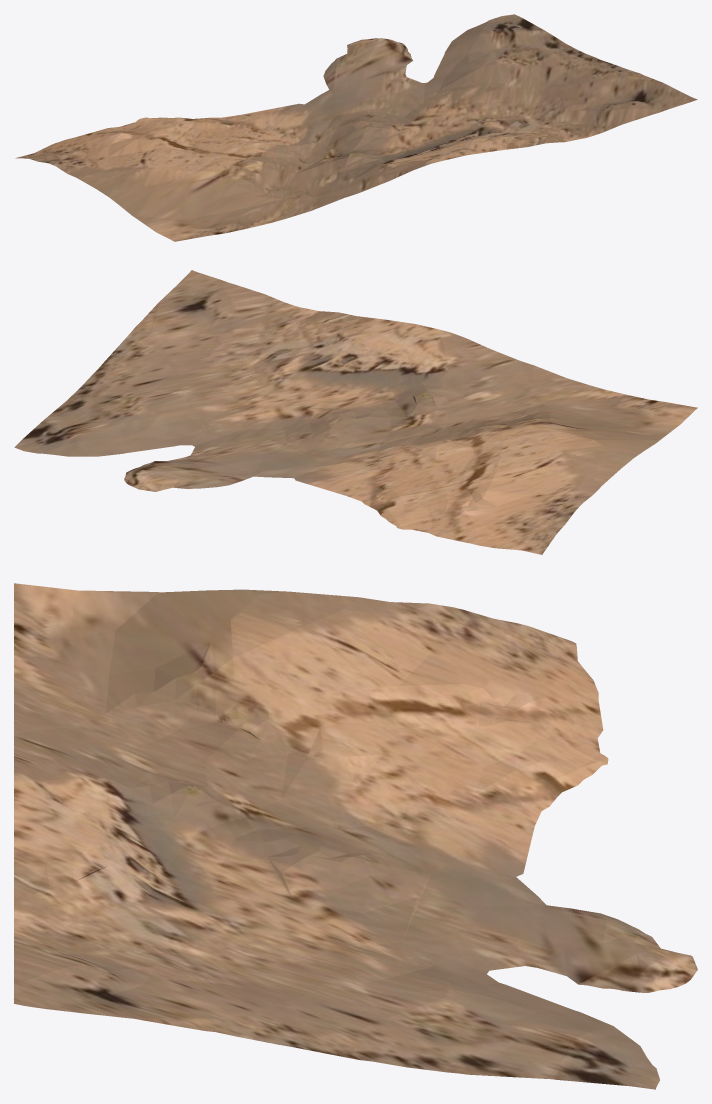
The picture shows the model from 3 angles, top to bottom: view 1: azimuth 30°, elevation 25°; view 2: azimuth 150°, elevation 25°; view 3: azimuth 270°, elevation 25°; orthographic projection. The views are drawn at different scales.
Size of the model in its own units: 2.09 by 0.191 by 1.35.
2 materials, 2 textured.
